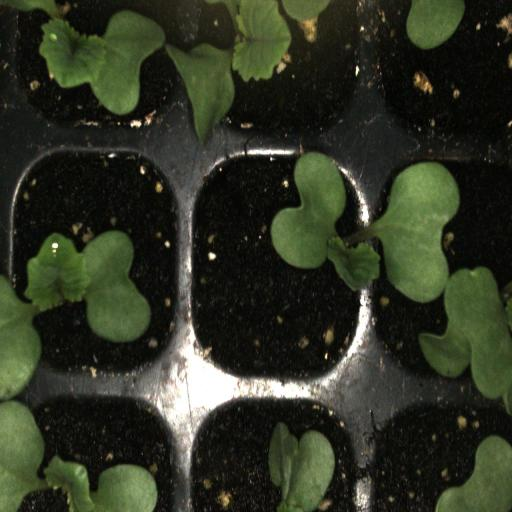Folha: (269, 423, 335, 512), (406, 0, 465, 50)
Germinacao: (189, 146, 379, 392), (6, 148, 188, 380), (189, 0, 377, 149), (7, 0, 188, 146), (6, 380, 184, 512)
